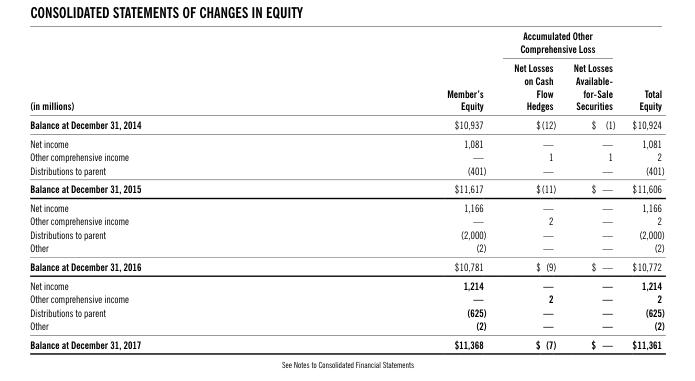table: (29, 29, 663, 350)
table column: (29, 29, 293, 350), (293, 29, 499, 350), (499, 29, 564, 350), (564, 29, 623, 350), (623, 29, 663, 350)
table column header: (29, 29, 663, 99)
table row: (29, 57, 663, 99), (29, 29, 663, 57), (29, 114, 663, 133), (29, 256, 663, 275), (29, 179, 663, 197), (29, 133, 663, 149), (29, 163, 663, 179), (29, 197, 663, 213), (29, 240, 663, 256), (29, 275, 663, 291), (29, 318, 663, 334), (29, 334, 663, 350), (29, 99, 663, 114), (29, 149, 663, 163), (29, 213, 663, 227), (29, 291, 663, 305), (29, 227, 663, 240), (29, 305, 663, 318)
table spanning cell: (293, 29, 499, 99), (499, 29, 623, 57), (623, 29, 663, 99)
